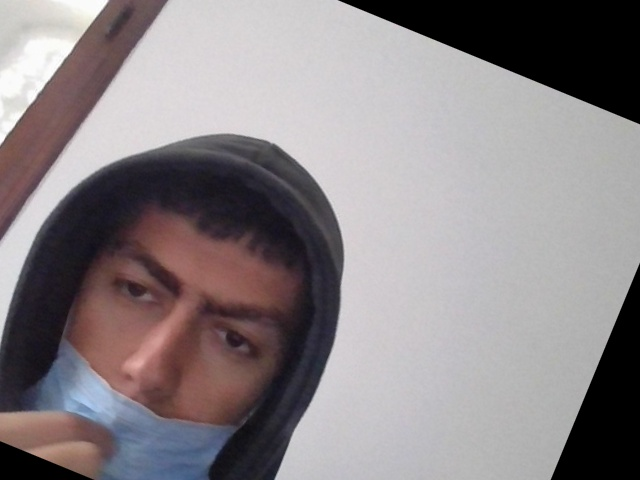mask_weared_incorrect: (22, 176, 331, 480)
